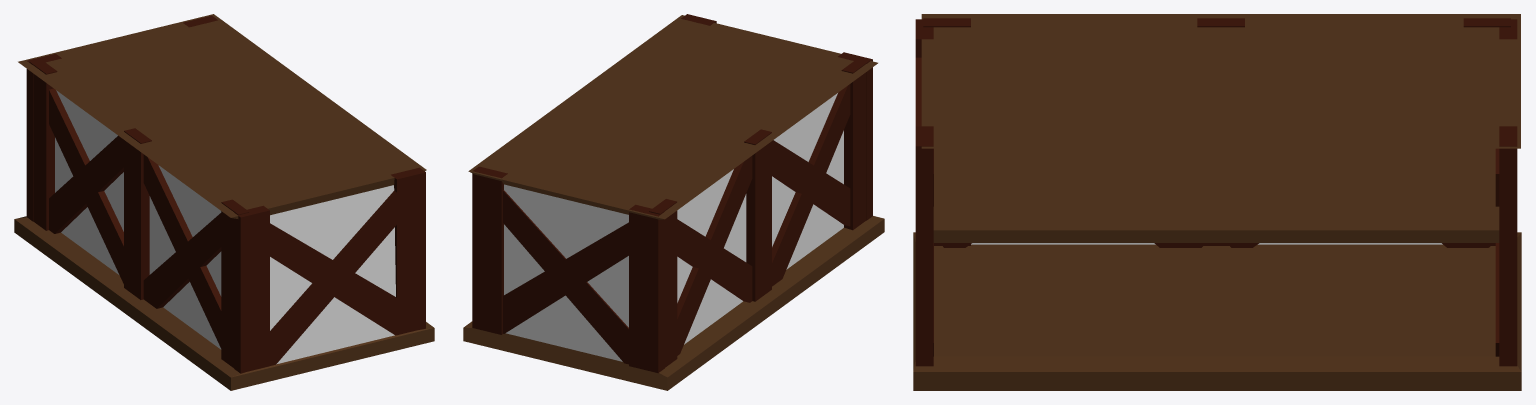
Rendered from barCounter.fbx.
The picture shows the model from 3 angles, left to right: view 1: azimuth 30°, elevation 25°; view 2: azimuth 150°, elevation 25°; view 3: azimuth 270°, elevation 25°; orthographic projection. The views are drawn at different scales.
Parts seen in each view (by area): view 1: BarCounter, CrossBoards, Boards; view 2: BarCounter, CrossBoards, Boards; view 3: BarCounter, Boards, CrossBoards.
Part boxes in pixels (x1,y1,x2,y2): BarCounter: [14, 14, 434, 390]; CrossBoards: [49, 88, 396, 365]; Boards: [26, 15, 425, 373]; BarCounter: [463, 15, 884, 390]; CrossBoards: [503, 84, 850, 364]; Boards: [472, 14, 872, 373]; BarCounter: [913, 14, 1521, 390]; Boards: [915, 18, 1517, 366]; CrossBoards: [915, 57, 1499, 356].
Bounding box in the file's own units: 200 × 161 × 368.
